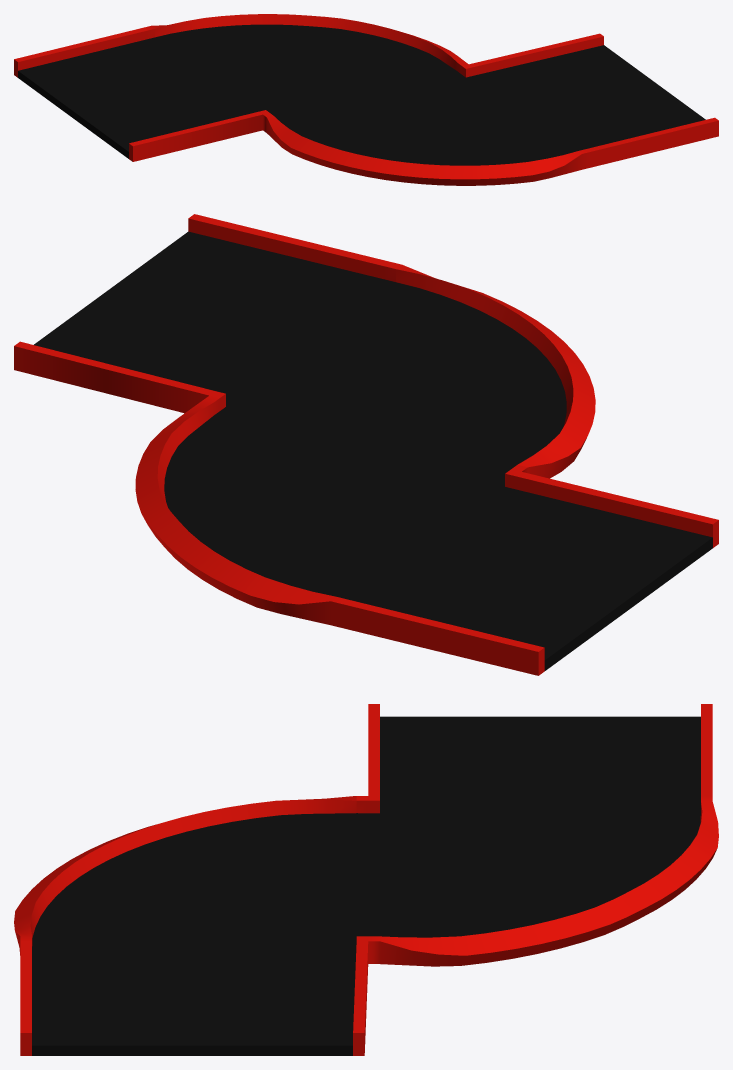
The model's file is Turn_06.fbx.
3 views of the same model, one above another, from view 1: azimuth 30°, elevation 25°; view 2: azimuth 150°, elevation 25°; view 3: azimuth 270°, elevation 25° (orthographic). The views are drawn at different scales.
Parts seen in each view (by area): view 1: Turn_06; view 2: Turn_06; view 3: Turn_06.
Boxes of the visible parts, x1,y1,x2,y2 form: Turn_06: (14, 14, 718, 185); Turn_06: (14, 214, 718, 675); Turn_06: (14, 704, 718, 1055).
Bounding box in the file's own units: 134 × 4.33 × 121.
